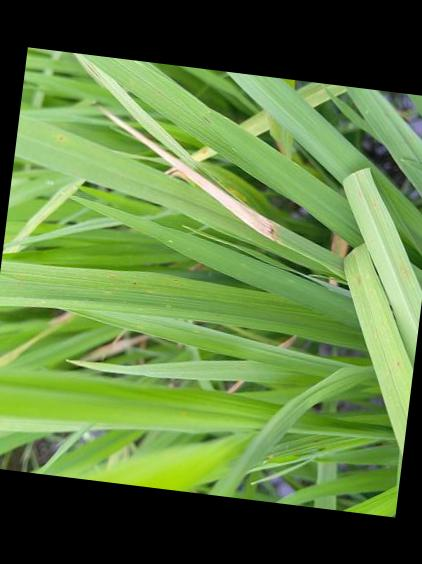Leaf Blight: (95, 104, 277, 240)
